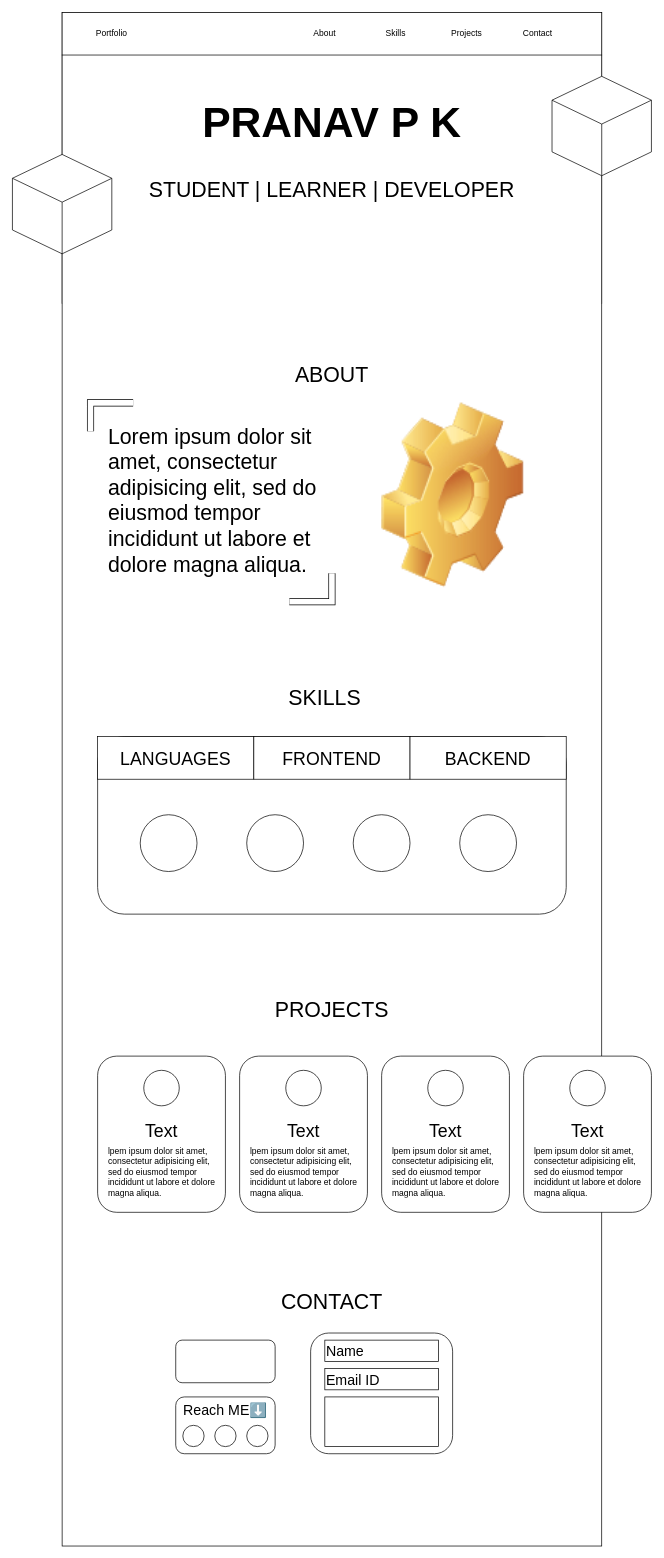
Some shapes in this 664 by 1558 pixel diagram are drawn without their labels. The centre of each missing label's shape, as x and y in pixels:
"Mail ME➡️" goes at pixel 225 1361.
"Message" goes at pixel 381 1421.
